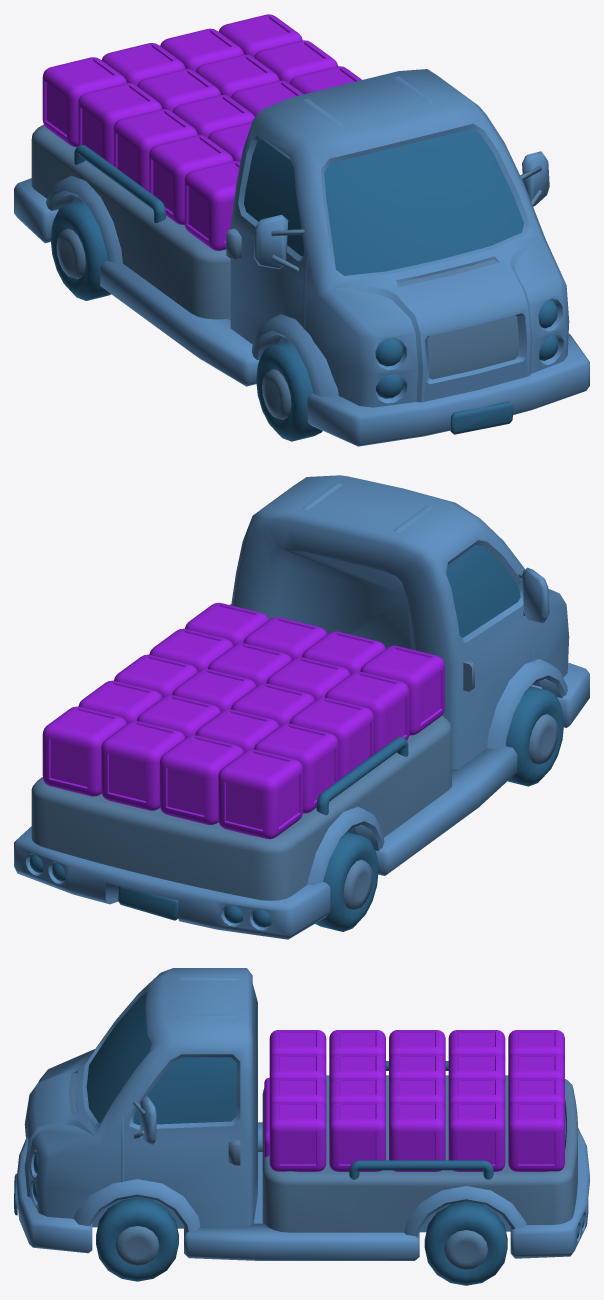
The model's file is Blue-Truck.fbx.
3 renders of one model, top to bottom at view 1: azimuth 30°, elevation 25°; view 2: azimuth 150°, elevation 25°; view 3: azimuth 270°, elevation 25°, orthographic. The views are drawn at different scales.
Parts seen in each view (by area): view 1: Truck, Till, Wheel_2A_R.R, Box.002, Box.018, Box.017, Box.009, Box.010, Box.005, Box.006, Box.007, Box.003 (+7 smaller); view 2: Truck, Till, Wheel_2A_R.R, Box.002, Box.003, Box.005, Box.004, Box.018, Box.009, Box.017, Box.010, Box.007 (+12 smaller); view 3: Truck, Till, Wheel_2A_R.R, Box.021, Box.005, Box.014, Box.006, Box.013, Handle_02, Box.007, Box.008, Box.009 (+13 smaller).
Boxes of the visible parts, box(x1,y1,x2,y2) form: Truck: box(14, 69, 589, 446); Till: box(31, 124, 230, 320); Wheel_2A_R.R: box(50, 201, 322, 441); Box.002: box(42, 57, 126, 146); Box.018: box(184, 161, 240, 250); Box.017: box(149, 135, 233, 224); Box.009: box(78, 83, 162, 165); Box.010: box(113, 109, 197, 191); Box.005: box(218, 14, 302, 57); Box.006: box(254, 40, 337, 83); Box.007: box(195, 54, 279, 97); Box.003: box(102, 43, 185, 85); Truck: box(14, 475, 589, 939); Till: box(31, 715, 451, 900); Wheel_2A_R.R: box(315, 686, 563, 931); Box.002: box(218, 749, 302, 839); Box.003: box(159, 735, 243, 824); Box.005: box(42, 706, 126, 796); Box.004: box(101, 721, 185, 810); Box.018: box(360, 645, 444, 735); Box.009: box(254, 723, 338, 813); Box.017: box(325, 671, 409, 753); Box.010: box(289, 697, 373, 779); Box.007: box(137, 695, 220, 737); Truck: box(14, 968, 589, 1260); Till: box(262, 1075, 577, 1232); Wheel_2A_R.R: box(96, 1197, 507, 1285); Box.021: box(269, 1102, 326, 1171); Box.005: box(508, 1102, 564, 1171); Box.014: box(329, 1102, 385, 1171); Box.006: box(448, 1102, 505, 1171); Box.013: box(389, 1102, 445, 1171); Handle_02: box(349, 1160, 493, 1179); Box.007: box(448, 1078, 505, 1109); Box.008: box(448, 1054, 505, 1085); Box.009: box(448, 1030, 505, 1061).
Bounding box in the file's own units: 2.76 × 2.48 × 5.56.
